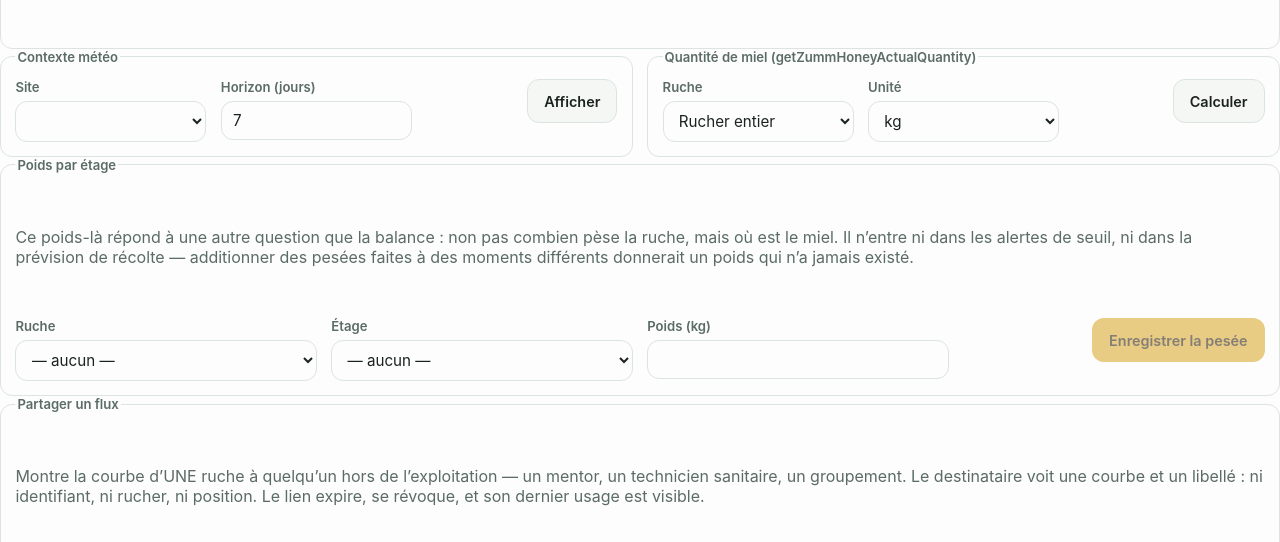
poids par étage › affiche « jamais pesé » plutôt que zéro pour une hausse sans pesée
The image size is (1280, 542).
(page scrolled)
Select "Dadant" in the dropdown labelled "Ruche" below "Poids par étage" at (166, 360), box [15, 340, 317, 381]
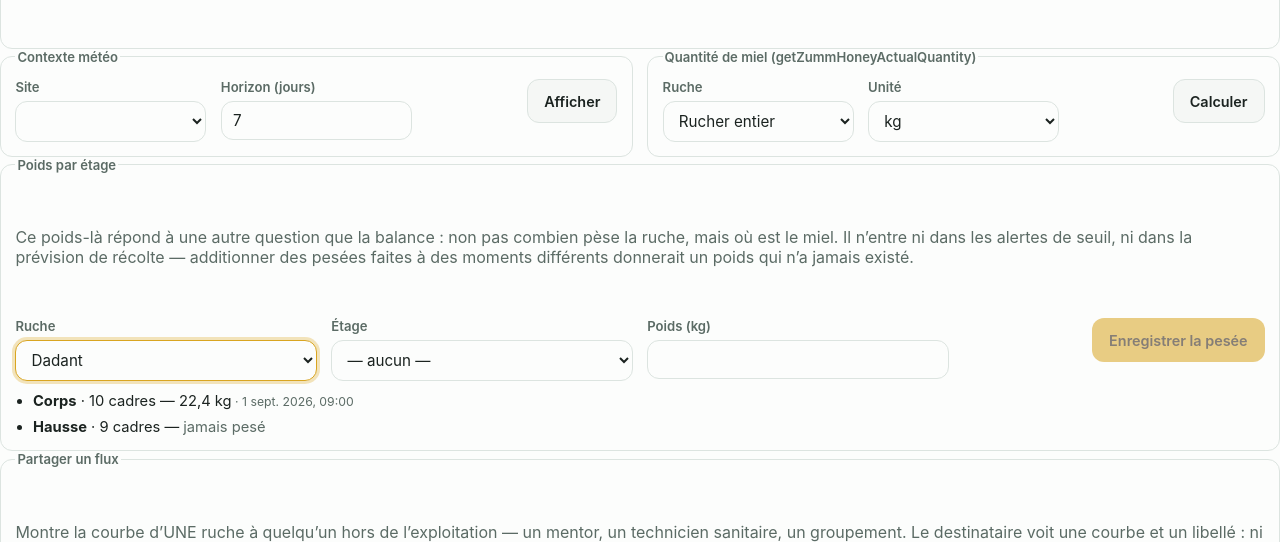
Check: the text "jamais pesé" is shown, box [183, 418, 266, 436]
Check: the list item "Corps · 10 cadres — 22,4 kg · 1 sept. 2026, 09:00" is shown, box [33, 392, 354, 410]
